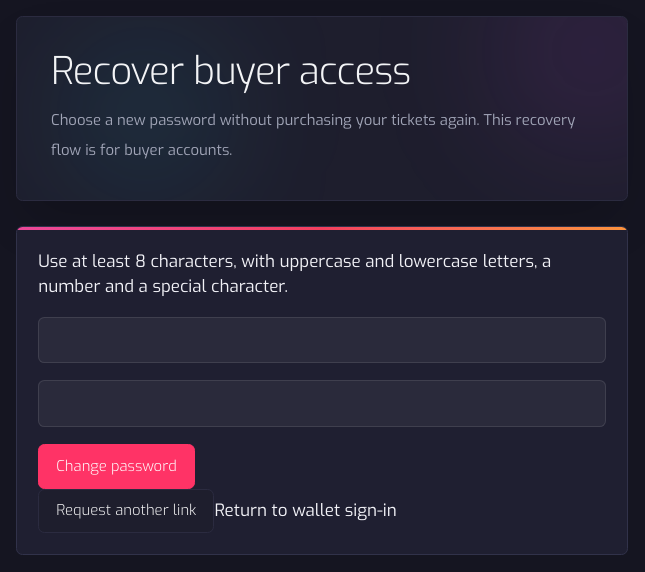
Test case: Buyer password recovery › keeps a stripped fragment in memory through StrictMode and sends only a dedicated unauthenticated request
Type "Synthetic-New1!" into the password field named "New password" at (322, 340), box [38,316,606,363]
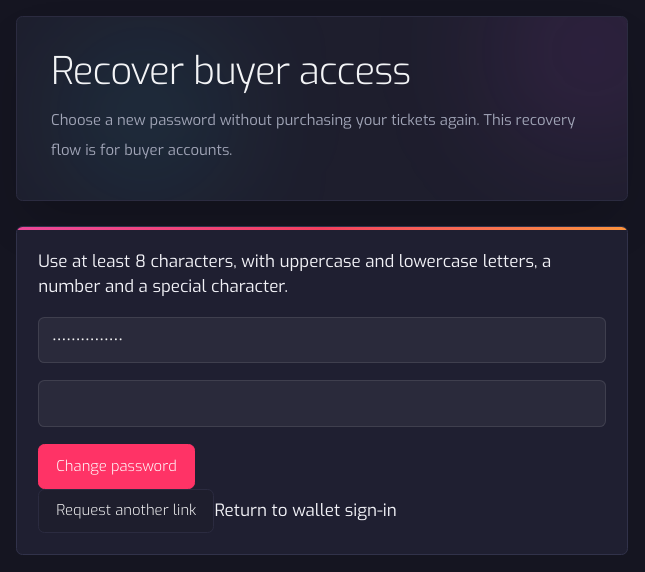
Type "Synthetic-New1!" into the password field named "Confirm new password" at (322, 404), box [38,380,606,427]
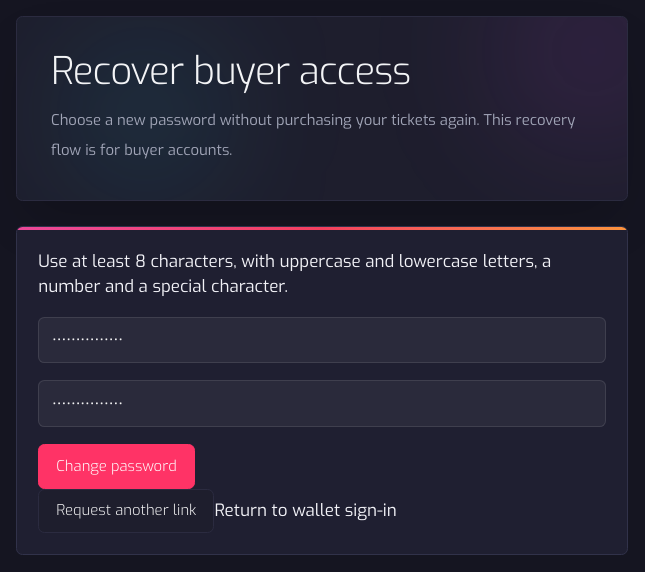
Click the button "Change password" at (117, 466), box [38,444,195,488]
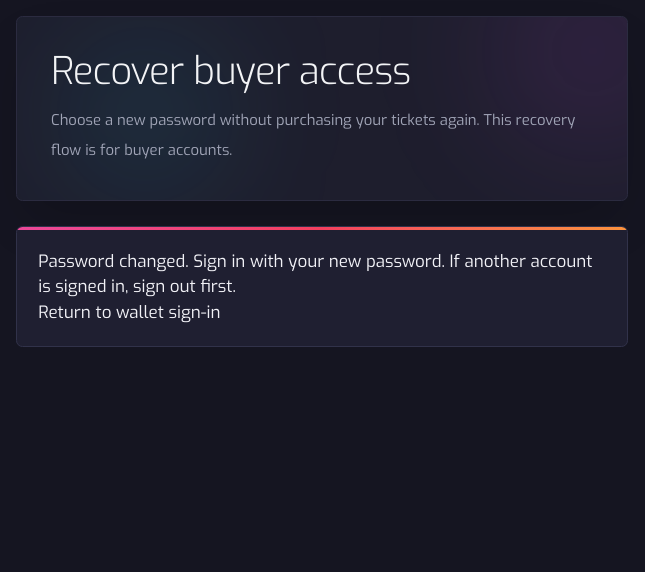
Expected: the text "Password changed" is shown, [38,250,592,298]
